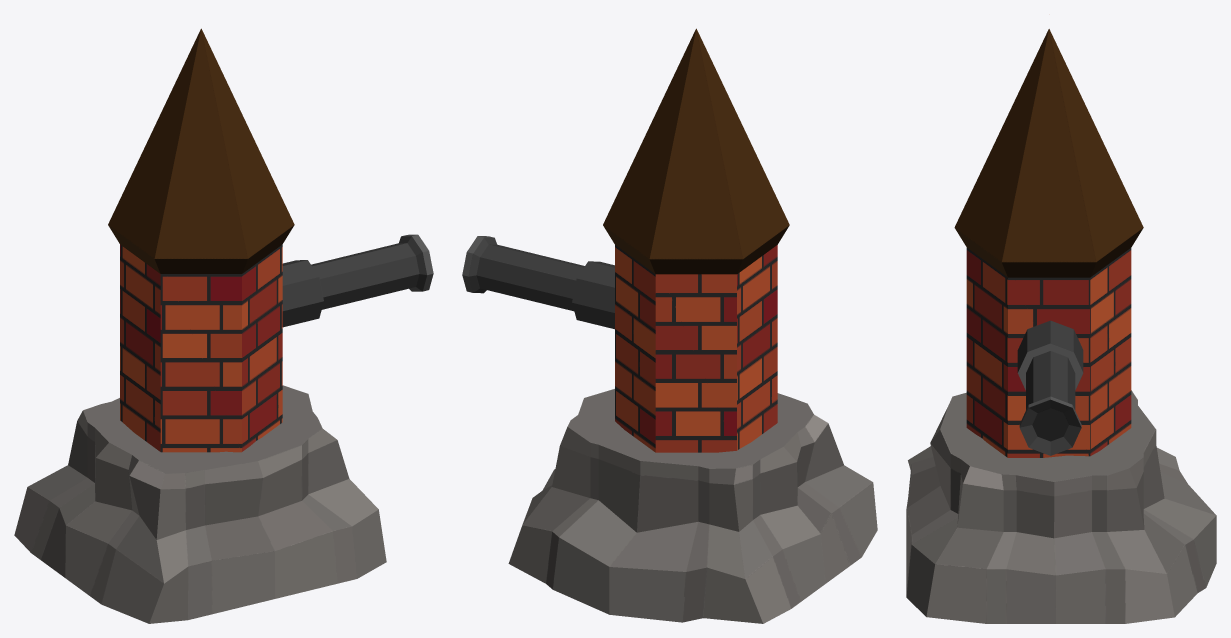
Rendered from Turret.fbx.
The picture shows the model from 3 angles, left to right: view 1: azimuth 30°, elevation 25°; view 2: azimuth 150°, elevation 25°; view 3: azimuth 270°, elevation 25°; orthographic projection.
Parts seen in each view (by area): view 1: Base, TowerCylinder, TowerTip, Cannon; view 2: Base, TowerCylinder, TowerTip, Cannon; view 3: Base, TowerTip, TowerCylinder, Cannon.
Part boxes in pixels (left/top/right/bottom): Base: left=14, top=385, right=386, bottom=623; TowerCylinder: left=120, top=244, right=282, bottom=452; TowerTip: left=108, top=28, right=294, bottom=273; Cannon: left=282, top=234, right=433, bottom=327; Base: left=508, top=389, right=877, bottom=623; TowerCylinder: left=615, top=245, right=777, bottom=452; TowerTip: left=603, top=28, right=789, bottom=274; Cannon: left=462, top=236, right=614, bottom=329; Base: left=906, top=390, right=1216, bottom=623; TowerTip: left=954, top=29, right=1143, bottom=277; TowerCylinder: left=966, top=248, right=1131, bottom=457; Cannon: left=1017, top=320, right=1083, bottom=455.
Size of the model in its own units: 371 by 546 by 280.
